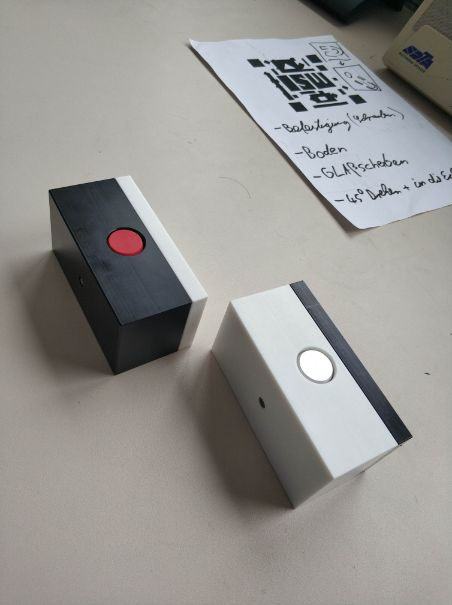black+white+silver: (211, 279, 417, 513)
white+black+red: (47, 173, 210, 378)
